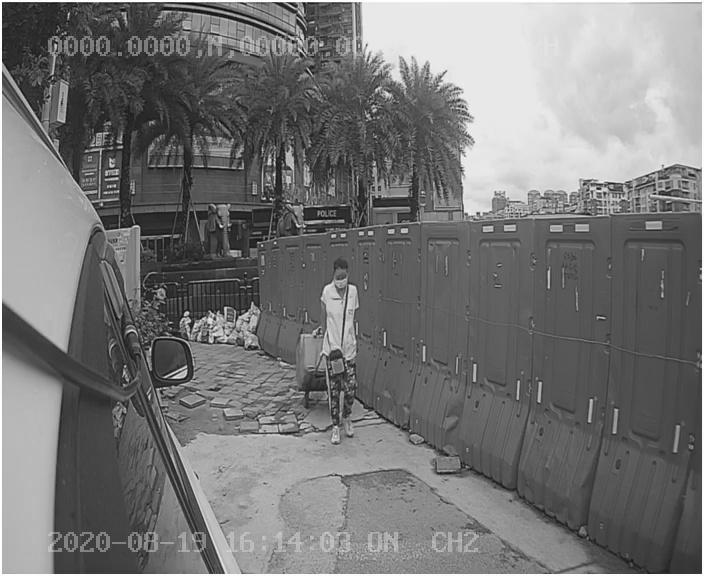person: (308, 253, 376, 447)
